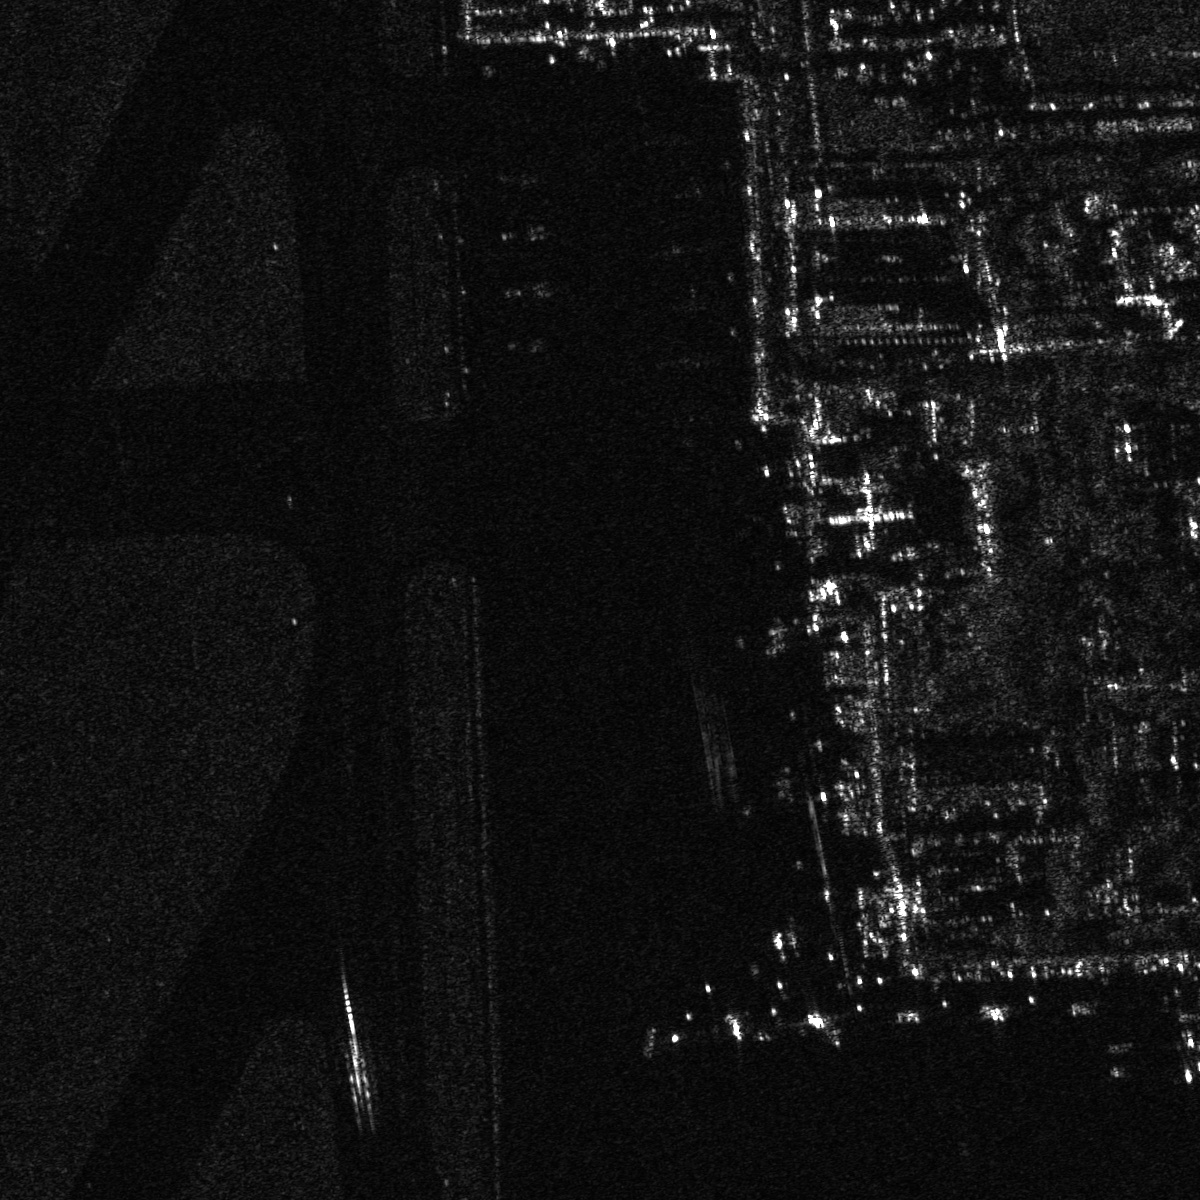ARJ21: (1158, 1009, 1199, 1086), (498, 268, 567, 312), (495, 212, 558, 255)
other: (503, 326, 559, 365), (486, 160, 542, 195)
